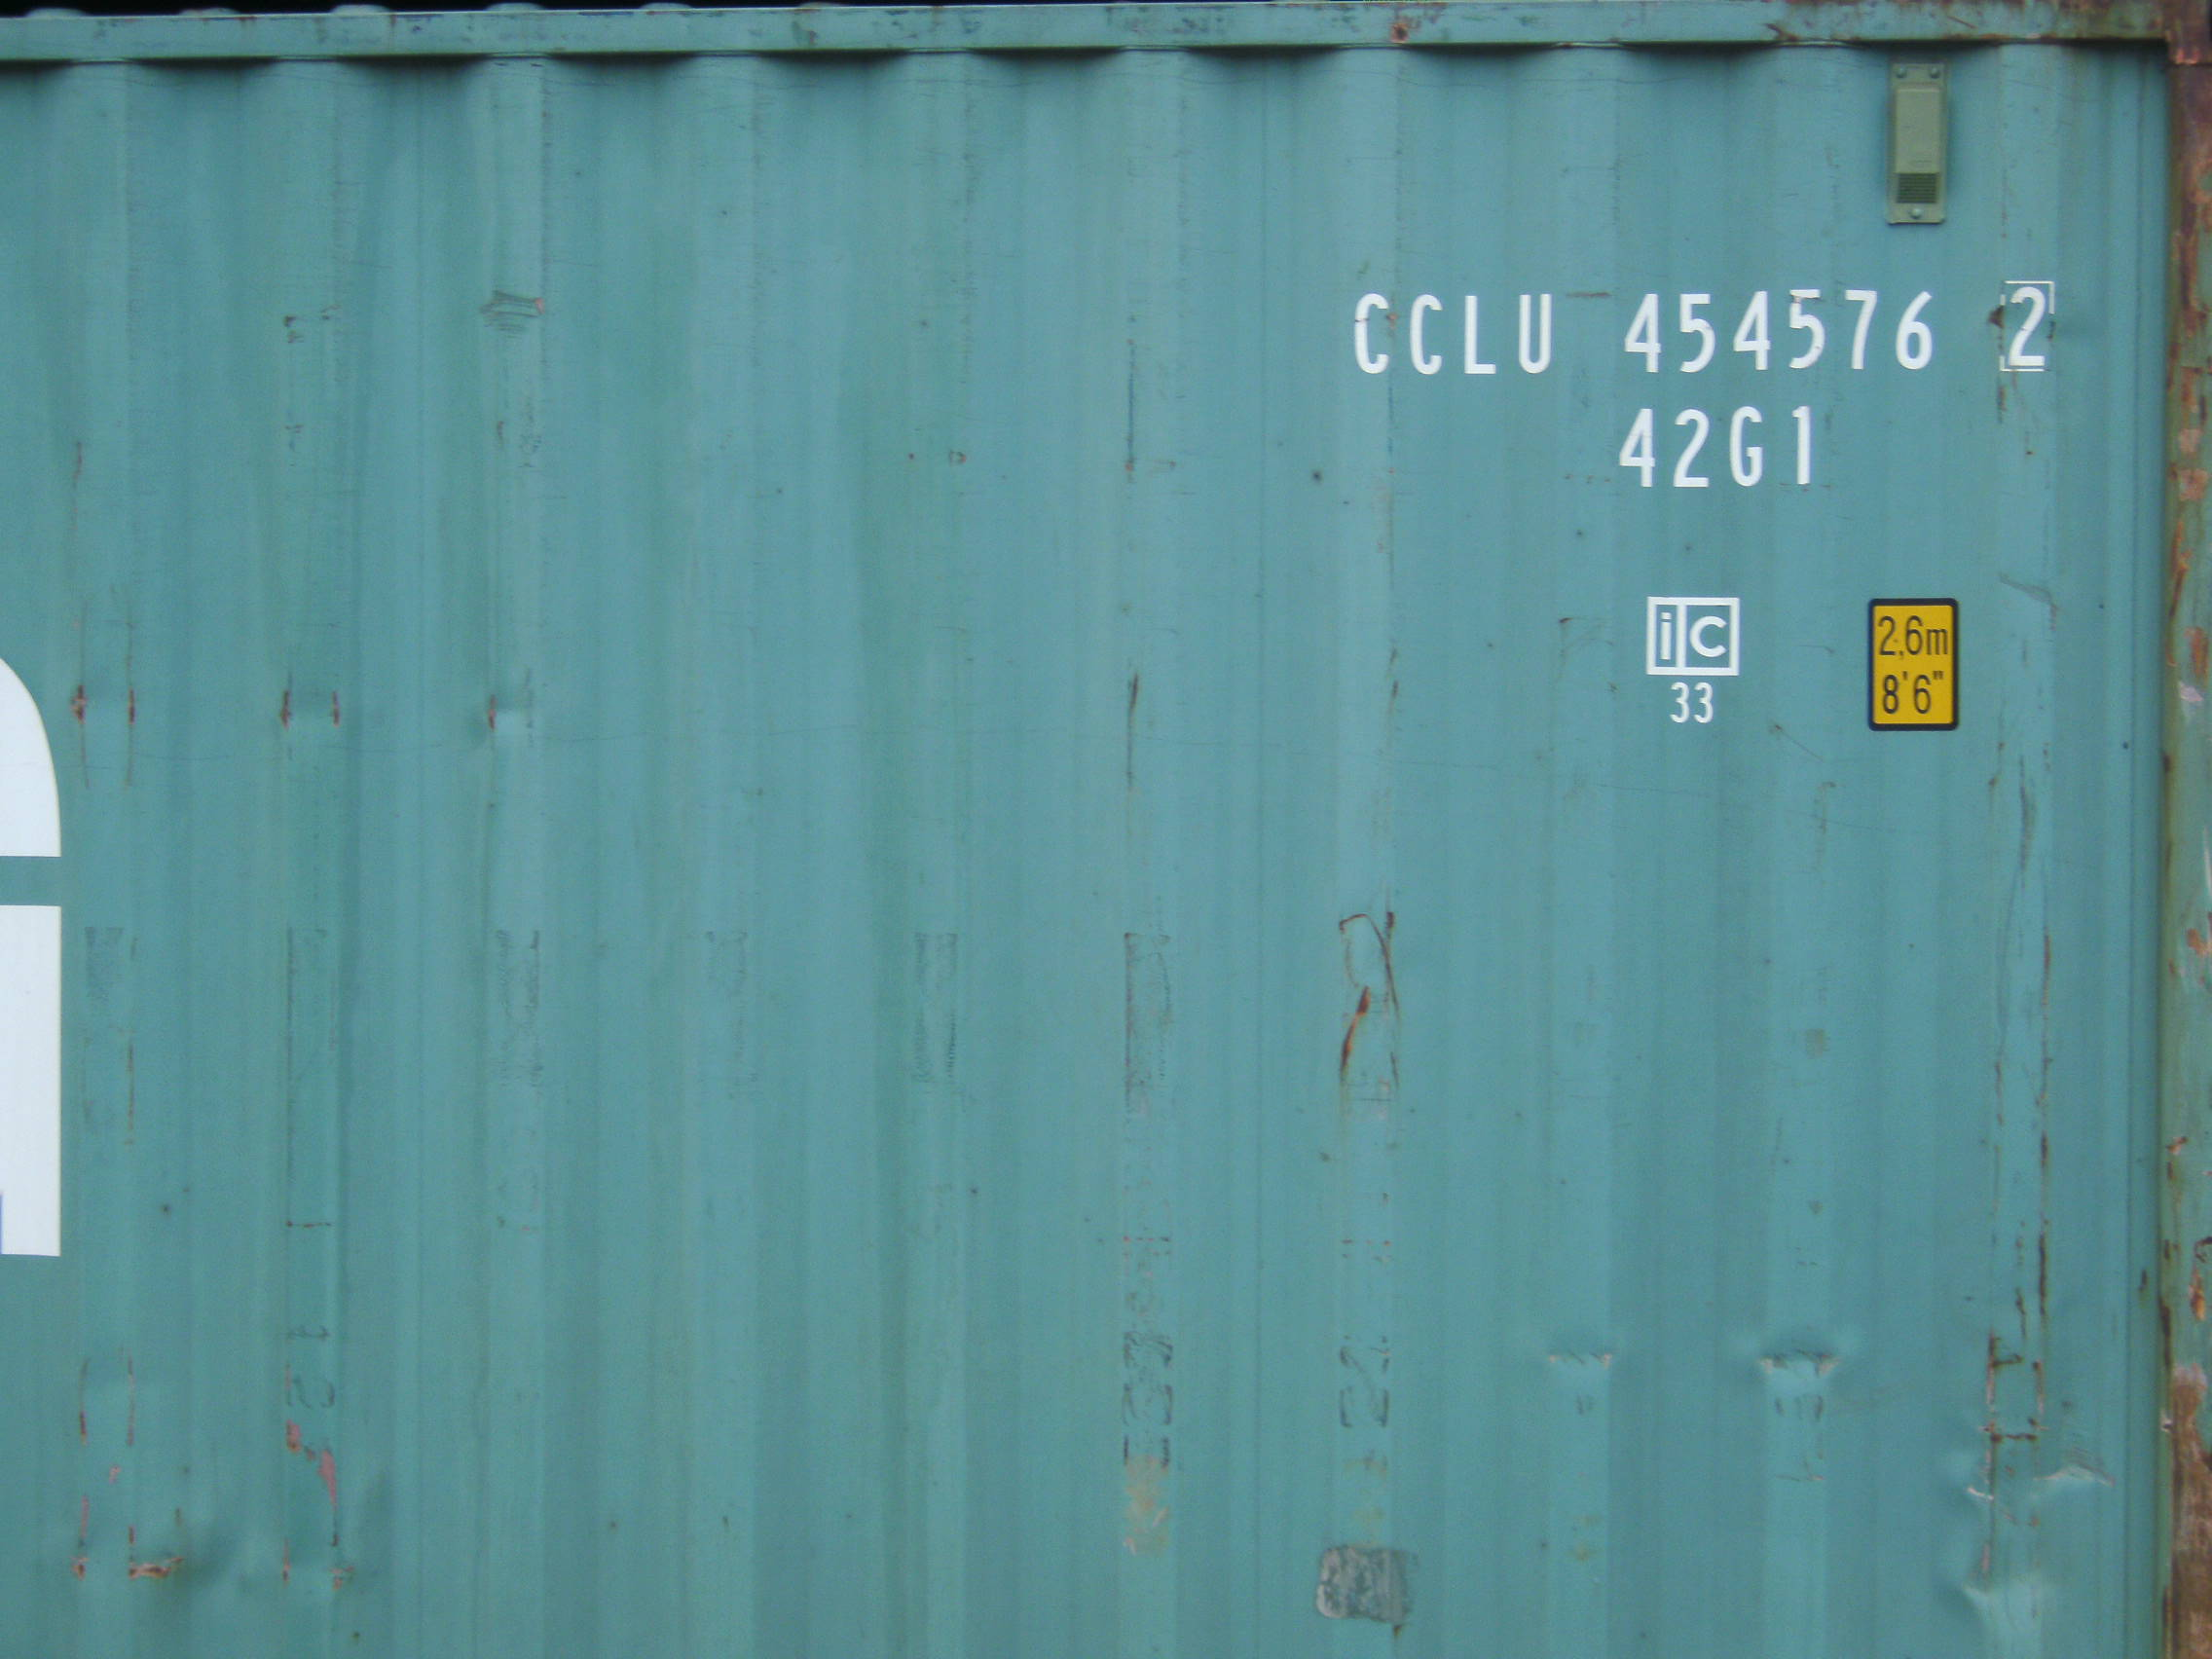container_no_door: (33, 118, 2135, 1626)
